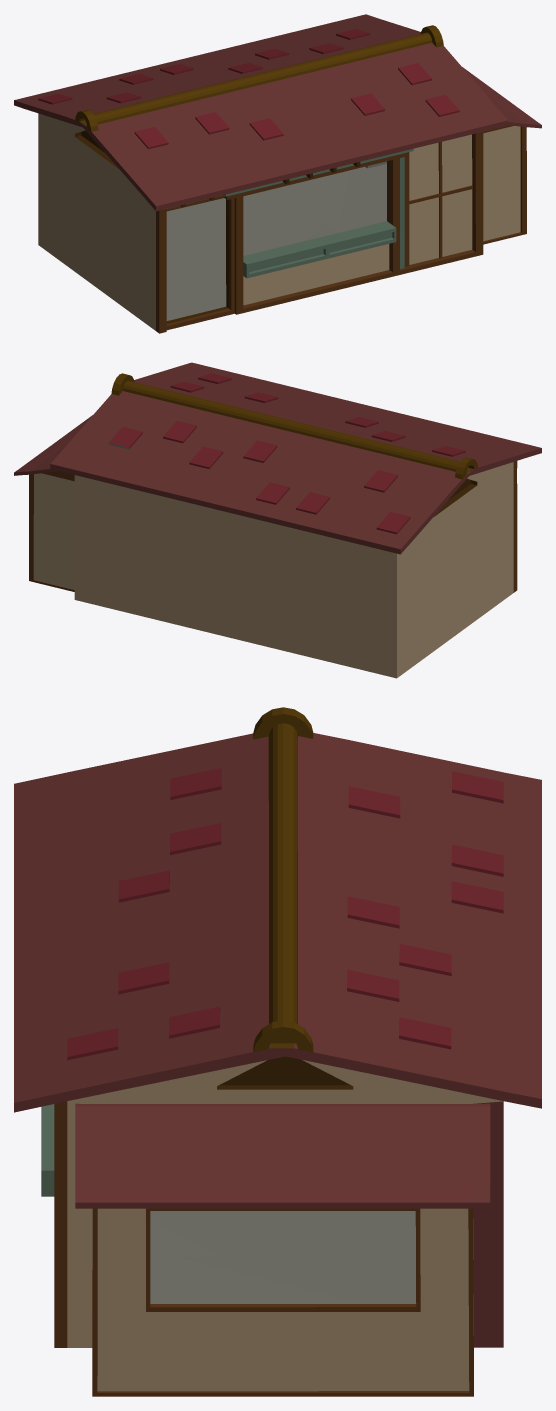
The model's file is restaurant2.fbx.
3 views of the same model, one above another, from view 1: azimuth 30°, elevation 25°; view 2: azimuth 150°, elevation 25°; view 3: azimuth 270°, elevation 25° (orthographic). The views are drawn at different scales.
Visible parts, largest first — view 1: Restaurant; view 2: Restaurant; view 3: Restaurant.
Part boxes in pixels (x1,y1,x2,y2): Restaurant: (14, 14, 541, 333); Restaurant: (14, 362, 541, 678); Restaurant: (14, 707, 541, 1396).
Bounding box in the file's own units: 8.21 × 3.5 × 5.02.
